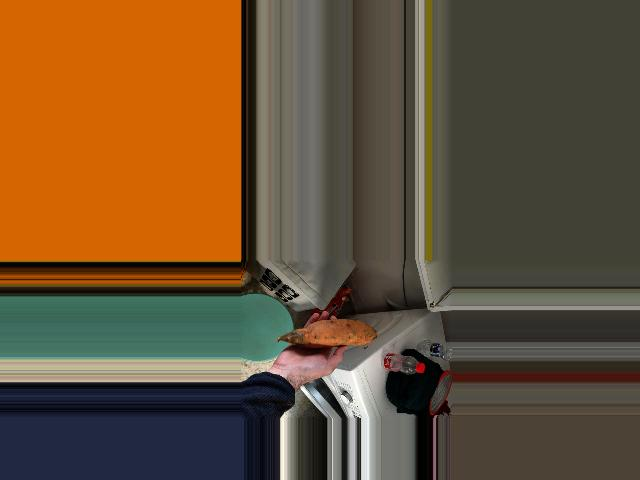sweet_potato: (298, 320, 385, 353)
